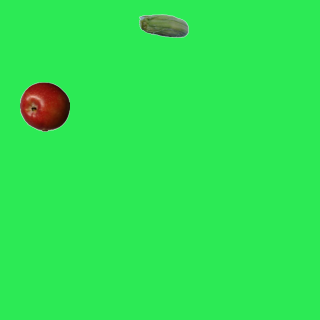Apple Braeburn: (19, 81, 69, 131)
Corn Husk: (138, 2, 188, 52)
